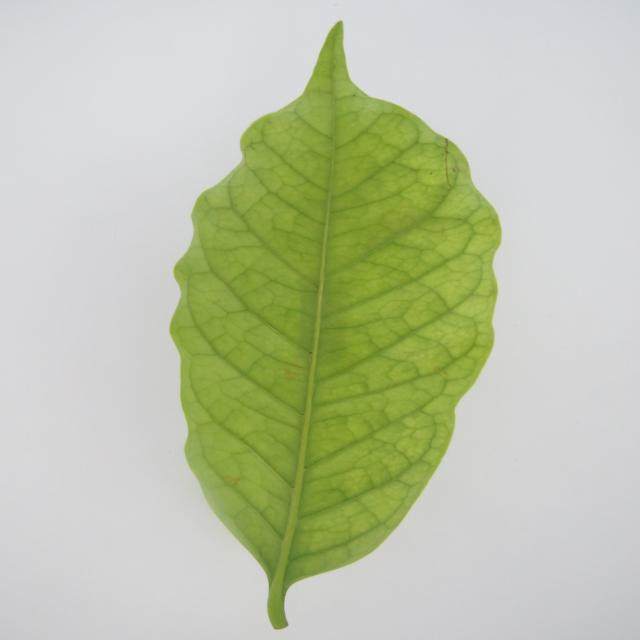DeficienciaNutricional-Calcio: (170, 22, 500, 629)
